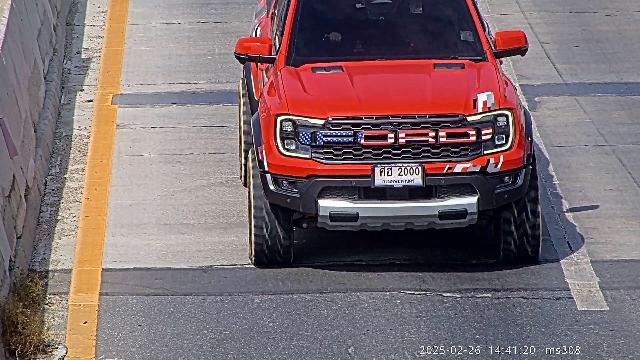pickup-truck: (234, 0, 541, 268)
